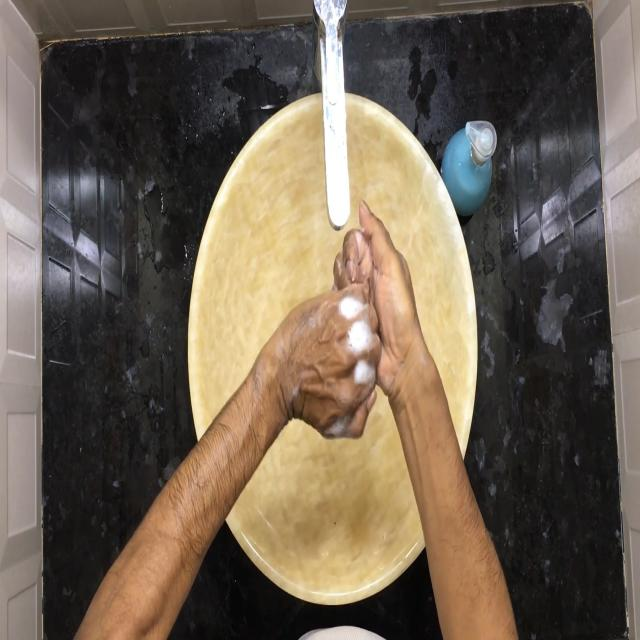step_4: (276, 196, 416, 395)
